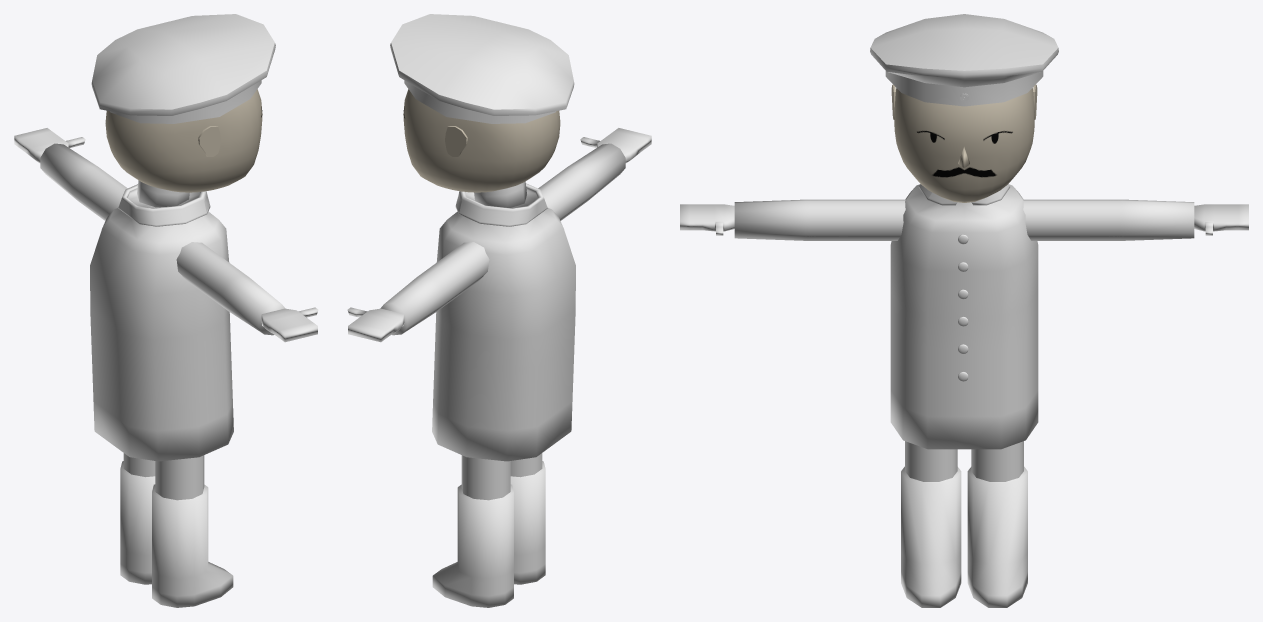
The model's file is GER_Sniper.fbx.
The picture shows the model from 3 angles, left to right: view 1: azimuth 30°, elevation 25°; view 2: azimuth 150°, elevation 25°; view 3: azimuth 270°, elevation 25°; orthographic projection. The views are drawn at different scales.
Parts seen in each view (by area): view 1: Body, Hat.001, Head, Shoe, Hands.002, Shoe.001, Hands.001, Collar, Legs, Palms.002, Palms.001, Neck (+2 smaller); view 2: Body, Hat.001, Head, Shoe.001, Hands.001, Shoe, Hands.002, Collar, Legs.001, Palms.001, Palms.002, Neck (+2 smaller); view 3: Body, Hat.001, Head, Shoe, Shoe.001, Hands.001, Hands.002, Legs, Legs.001, Palms.001, Palms.002.
Part boxes in pixels (<box>): Body: <box>90,208,233,461</box>; Hat.001: <box>91,14,275,123</box>; Head: <box>105,89,262,192</box>; Shoe: <box>152,484,233,607</box>; Hands.002: <box>176,242,285,335</box>; Shoe.001: <box>120,461,155,584</box>; Hands.001: <box>40,143,127,220</box>; Collar: <box>118,184,210,226</box>; Legs: <box>155,455,204,500</box>; Palms.002: <box>261,307,318,342</box>; Palms.001: <box>14,128,85,162</box>; Neck: <box>137,180,189,207</box>; Body: <box>432,208,575,461</box>; Hat.001: <box>390,14,574,123</box>; Head: <box>403,89,560,192</box>; Shoe.001: <box>432,484,513,607</box>; Hands.001: <box>380,242,489,335</box>; Shoe: <box>510,461,545,584</box>; Hands.002: <box>538,143,625,220</box>; Collar: <box>455,183,547,226</box>; Legs.001: <box>461,455,510,500</box>; Palms.001: <box>347,307,404,342</box>; Palms.002: <box>580,128,651,162</box>; Neck: <box>474,181,526,207</box>; Body: <box>890,184,1038,449</box>; Hat.001: <box>870,14,1058,106</box>; Head: <box>894,88,1034,202</box>; Shoe: <box>901,466,961,607</box>; Shoe.001: <box>967,466,1027,607</box>; Hands.001: <box>1023,199,1194,240</box>; Hands.002: <box>734,199,905,240</box>; Legs: <box>905,441,957,481</box>; Legs.001: <box>971,441,1023,481</box>; Palms.001: <box>1194,204,1248,235</box>; Palms.002: <box>680,204,734,235</box>.
Bounding box in the file's own units: 239 × 739 × 677.
